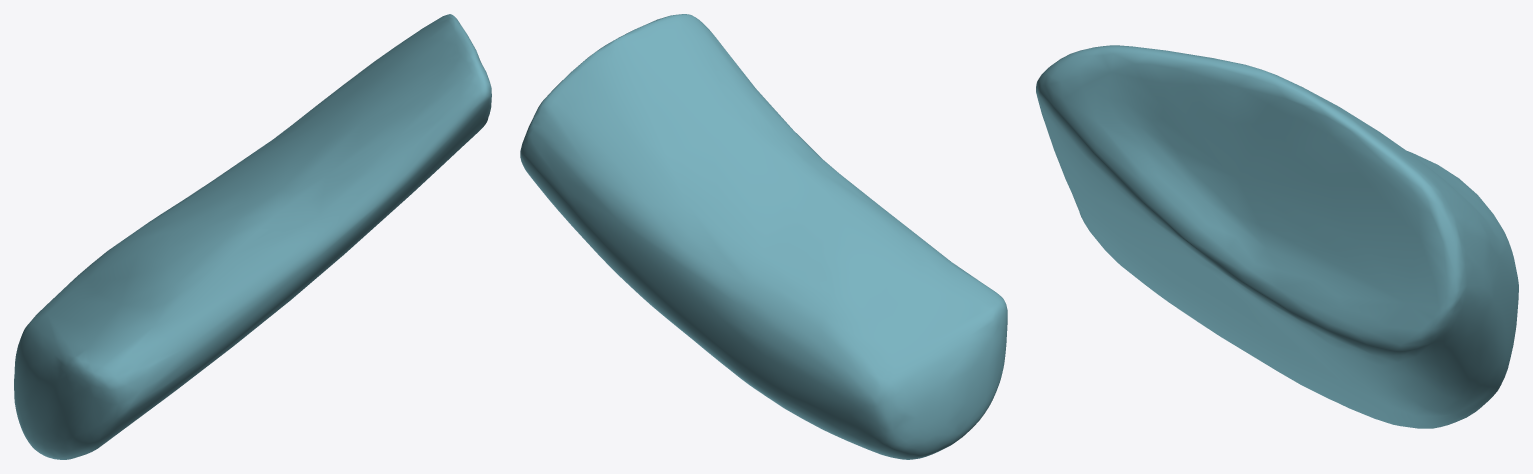
The picture shows the model from 3 angles, left to right: view 1: azimuth 30°, elevation 25°; view 2: azimuth 150°, elevation 25°; view 3: azimuth 270°, elevation 25°; orthographic projection. The views are drawn at different scales.
Visible parts, largest first — view 1: 左侧第二肋软骨; view 2: 左侧第二肋软骨; view 3: 左侧第二肋软骨.
Part boxes in pixels (<box>): 左侧第二肋软骨: <box>14,14,491,459</box>; 左侧第二肋软骨: <box>520,14,1007,459</box>; 左侧第二肋软骨: <box>1036,45,1518,428</box>.
Bounding box in the file's own units: 0.0491 × 0.0358 × 0.0247.
